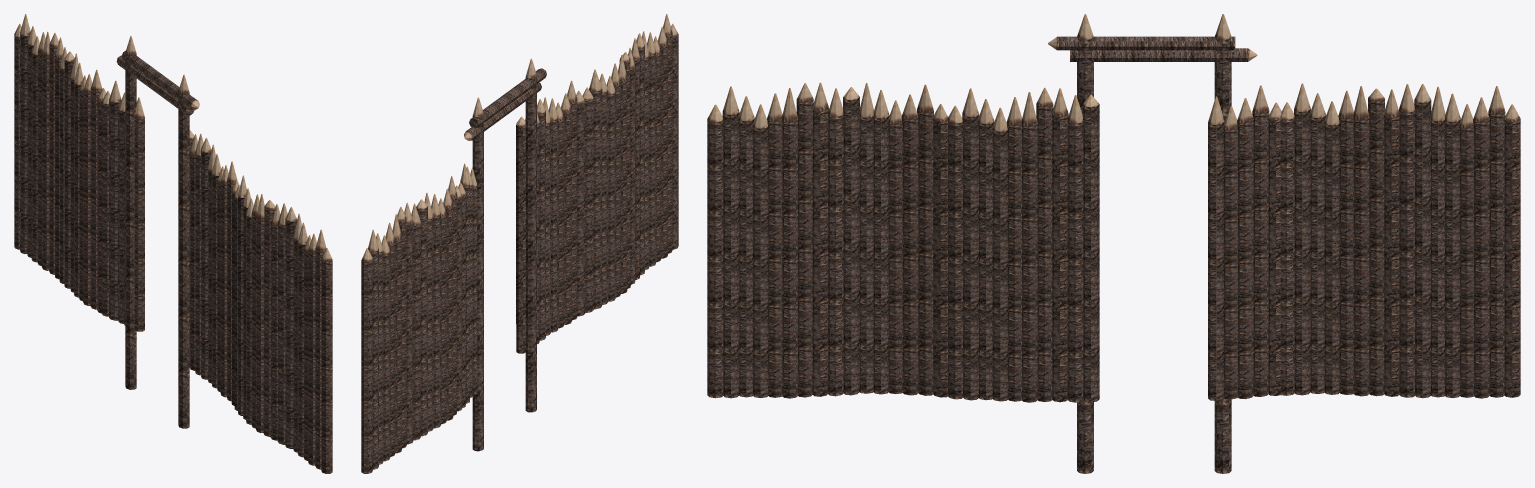
File: WoodenGate.obj
3 renders of one model, left to right at view 1: azimuth 30°, elevation 25°; view 2: azimuth 150°, elevation 25°; view 3: azimuth 270°, elevation 25°, orthographic. The views are drawn at different scales.
Visible parts, largest first — view 1: Plane; view 2: Plane; view 3: Plane.
Boxes of the visible parts, x1,y1,x2,y2 form: Plane: [14, 14, 332, 473]; Plane: [361, 14, 678, 473]; Plane: [707, 14, 1520, 473].
Size of the model in its own units: 0.053 by 0.7428 by 1.2.
1 material, 1 textured.
